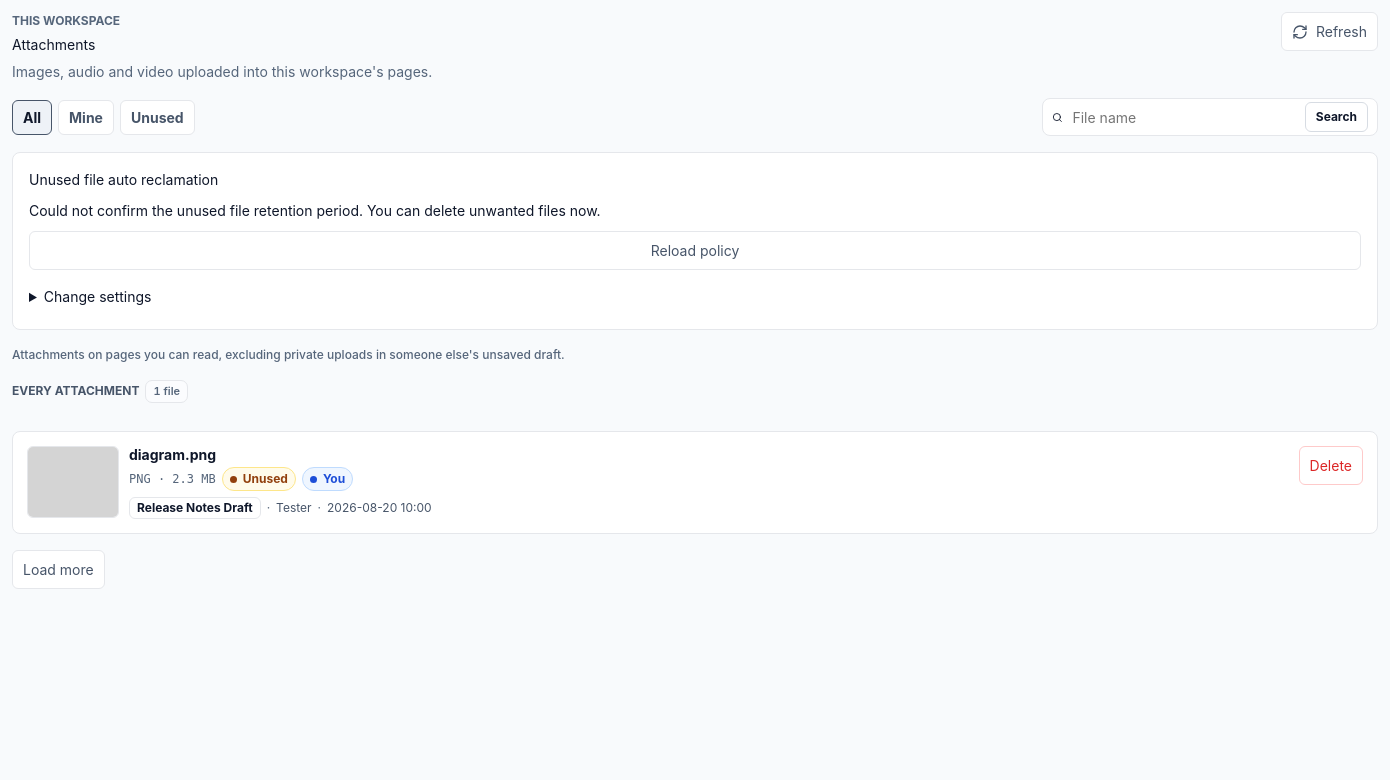
Test: AttachmentsSection › appends the next page instead of replacing the loaded rows
The image size is (1390, 780).
Check: the text "diagram.png" is shown, box [129,446,216,462]
Click the button "Load more" at (58, 570), box [12,550,105,589]
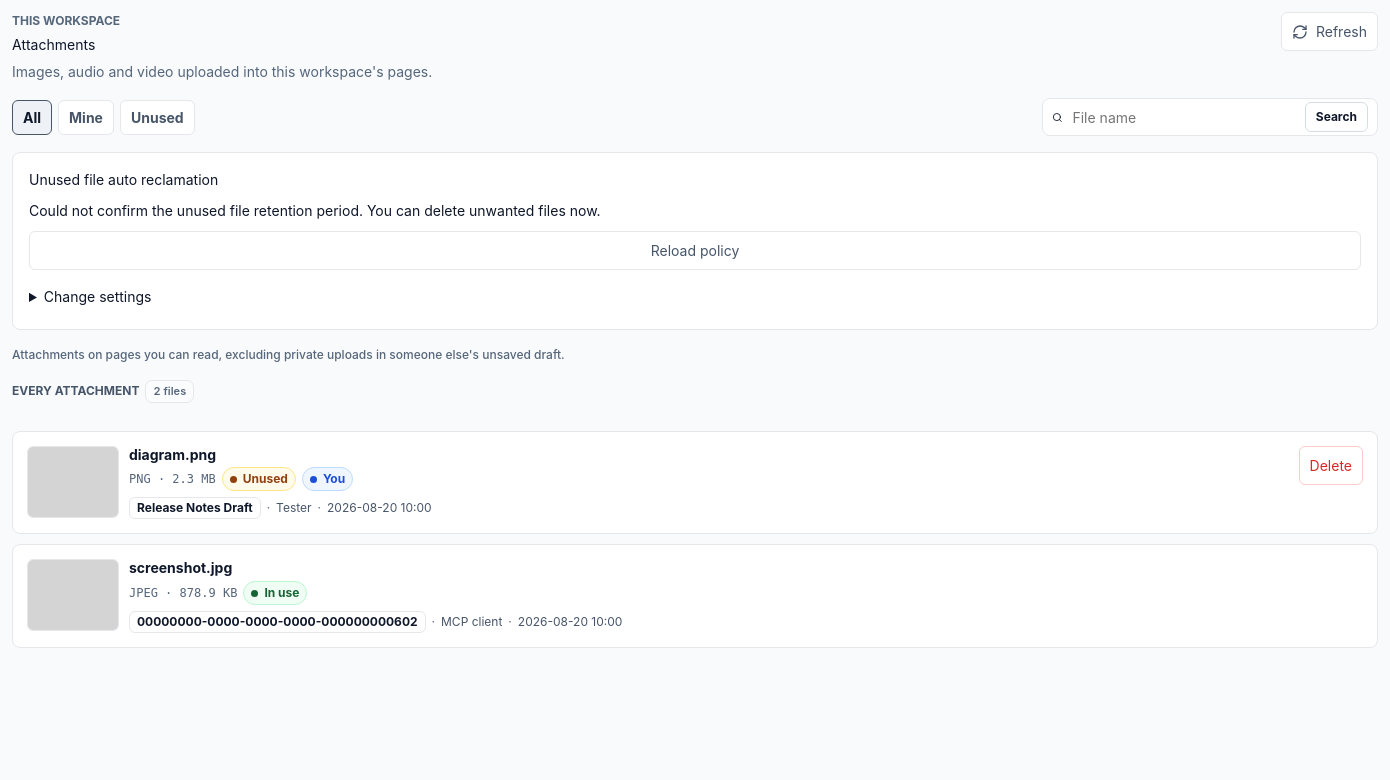
Check: the text "diagram.png" is shown, box [129,446,216,462]
Check: the text "screenshot.jpg" is shown, box [129,559,232,576]
